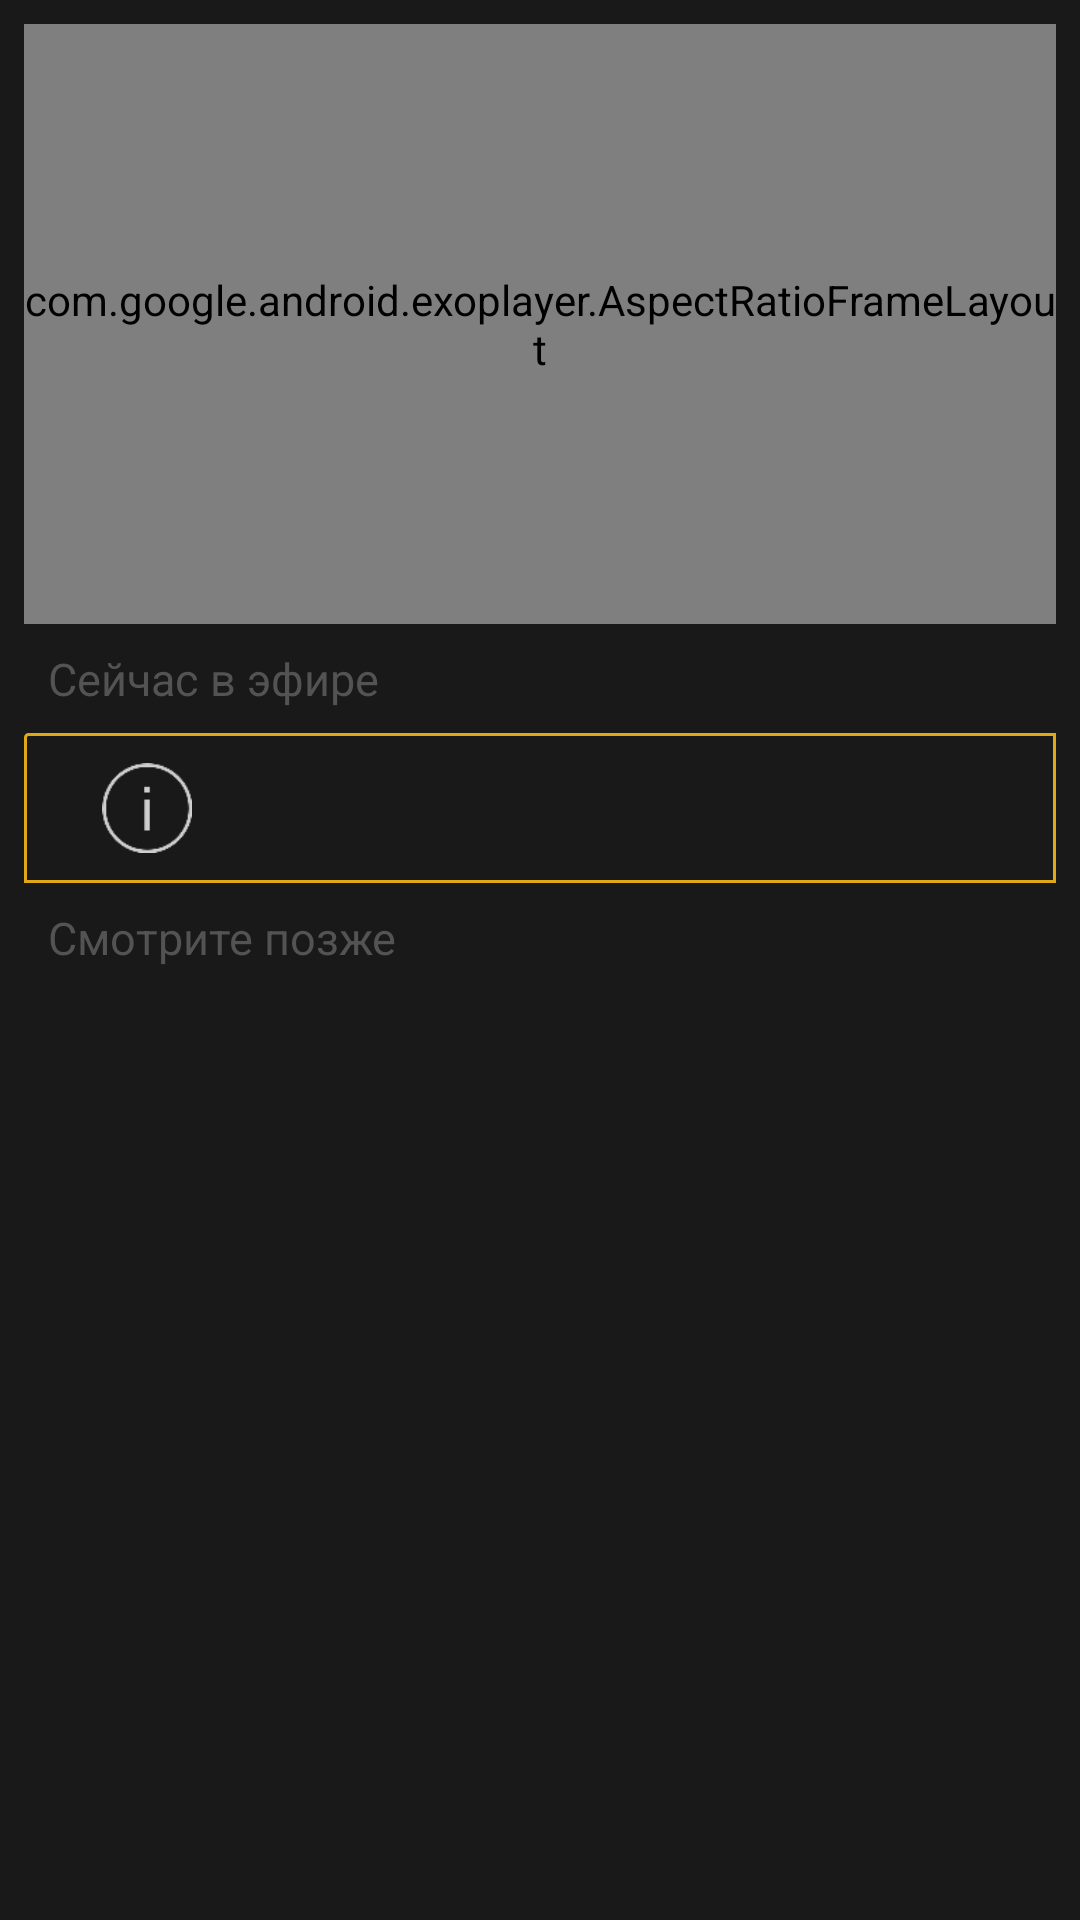

Icons on this 1080 × 1920 Android screen, each with the point to tap as point (x, y):
info: point (147, 808)
